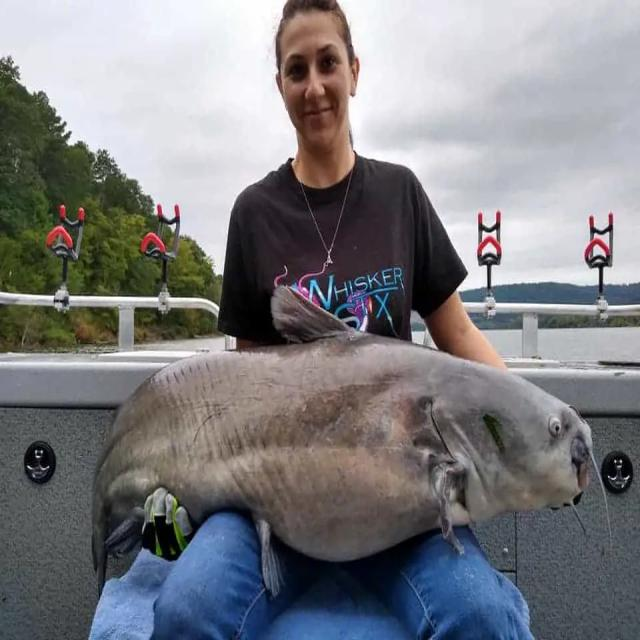Catfish - Blue: (92, 333, 592, 582)
